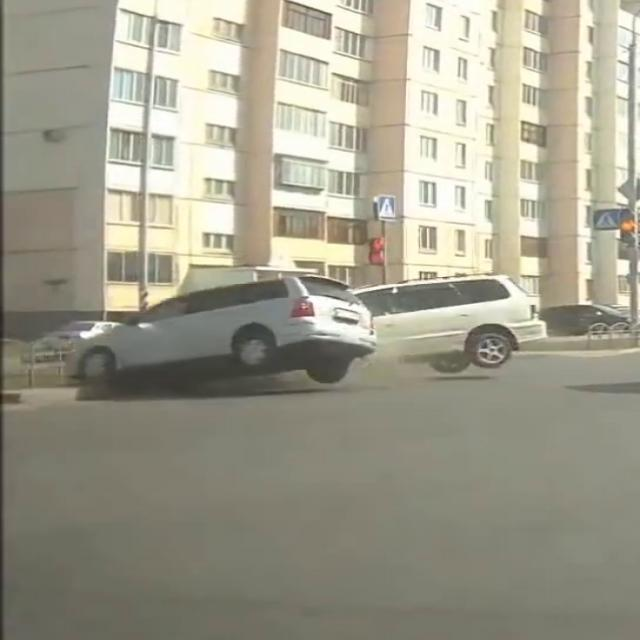accident: (88, 255, 534, 400)
